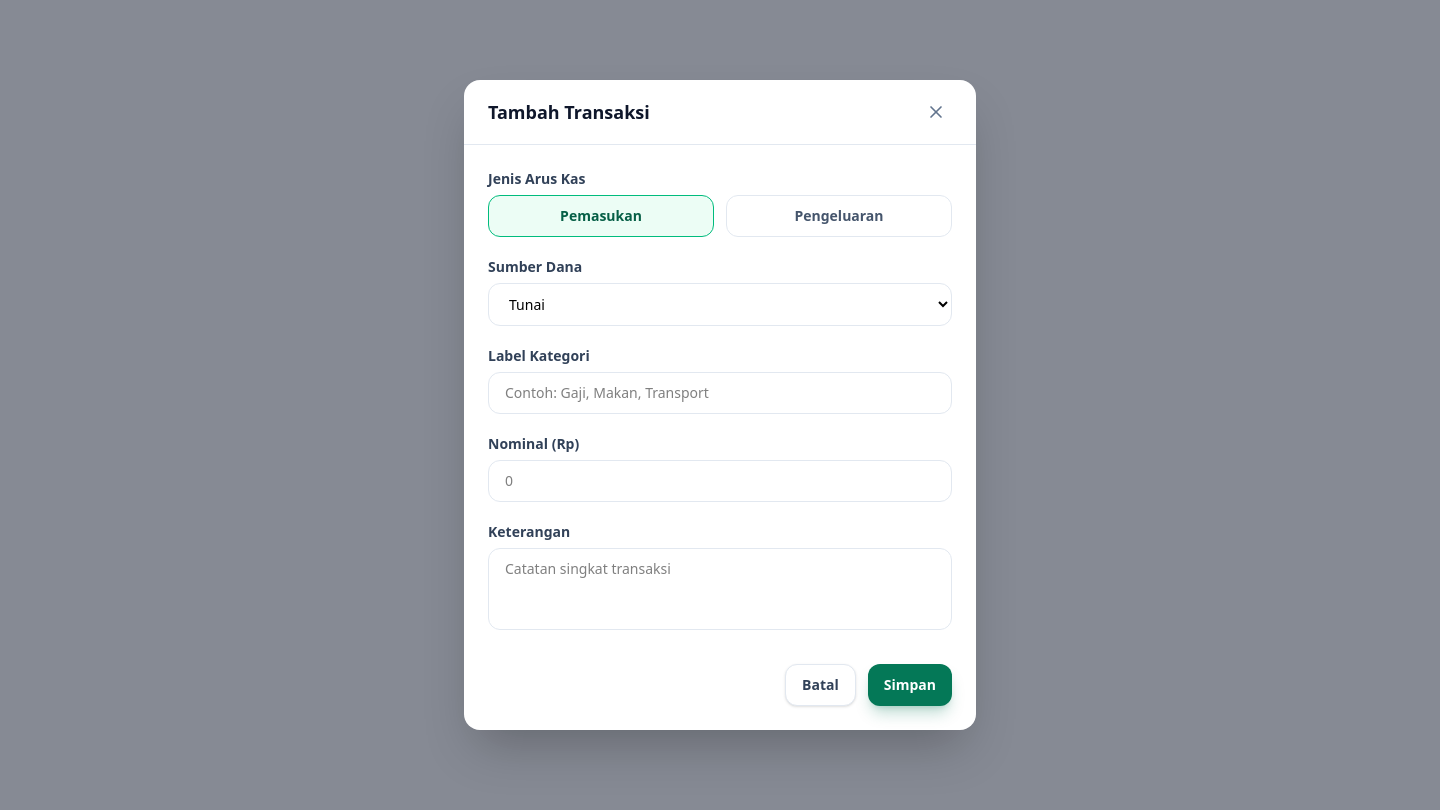
AddModal › menghapus pesan error saat input diperbaiki
The image size is (1440, 810).
Submit the form, box [464,145,976,730]
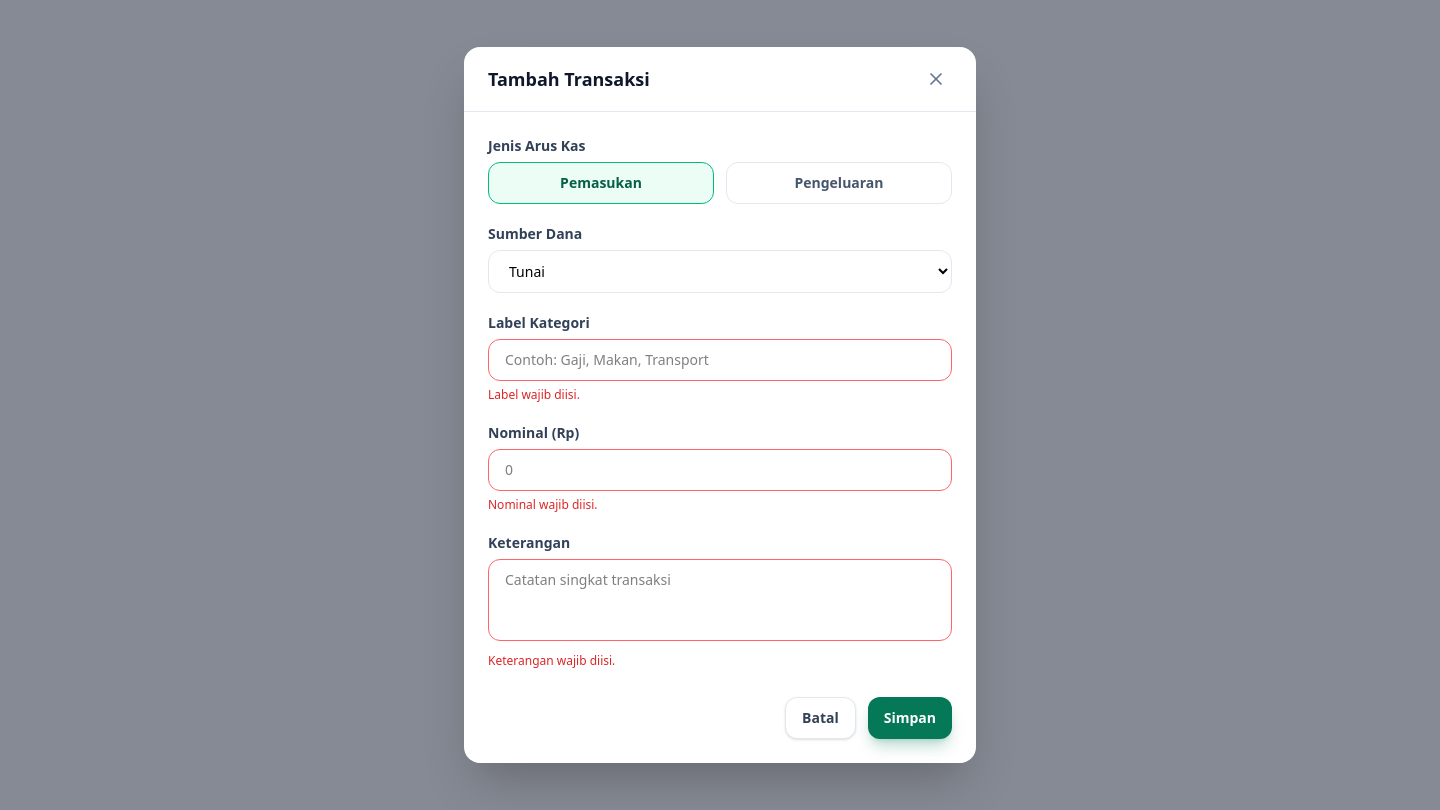
Expected: the text "Label wajib diisi." is shown, [488,386,580,403]
In the field with id "add-label": (720, 360) [488,339,952,381], type "Gaji"
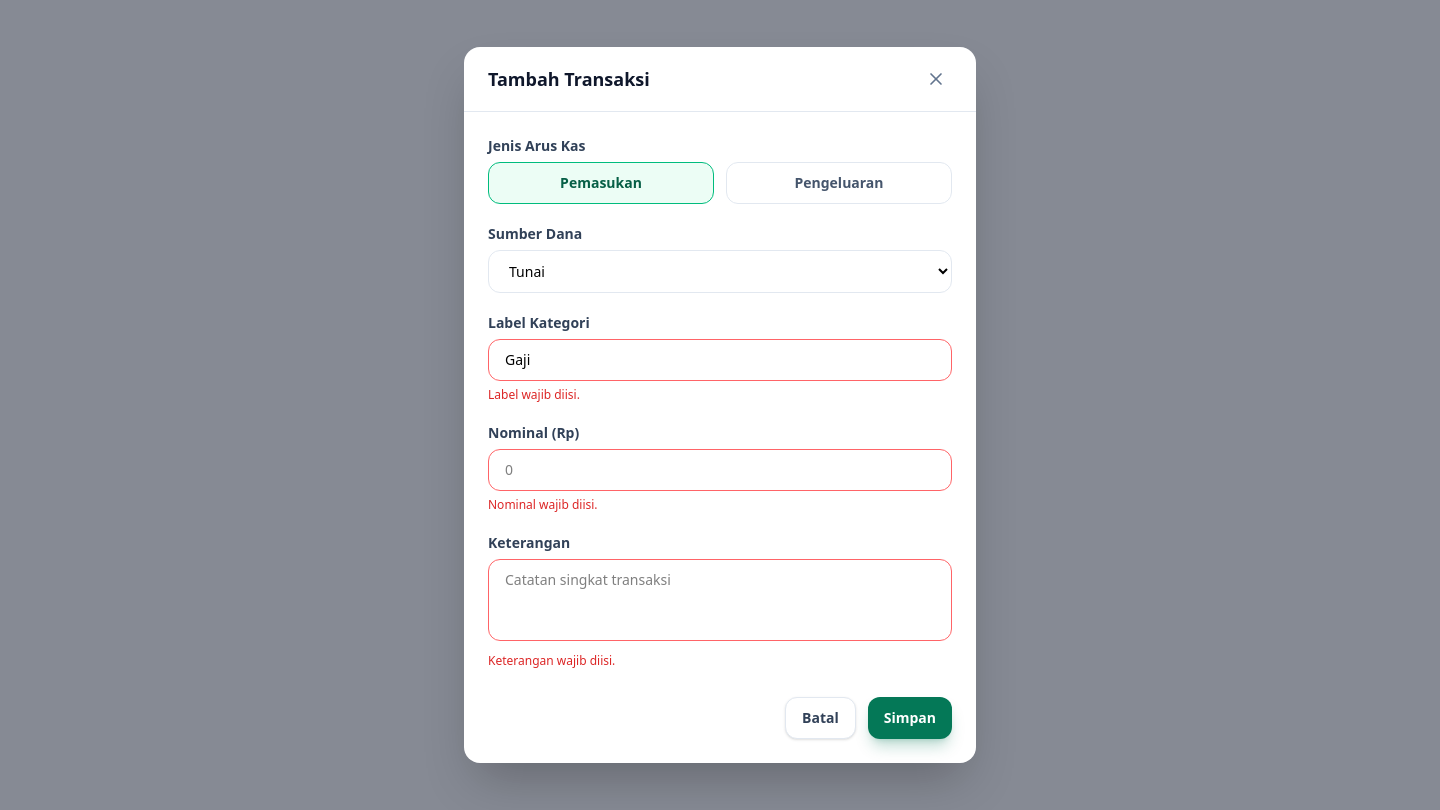
In the number field with id "add-nominal": (720, 470) [488,449,952,491], type "1000"
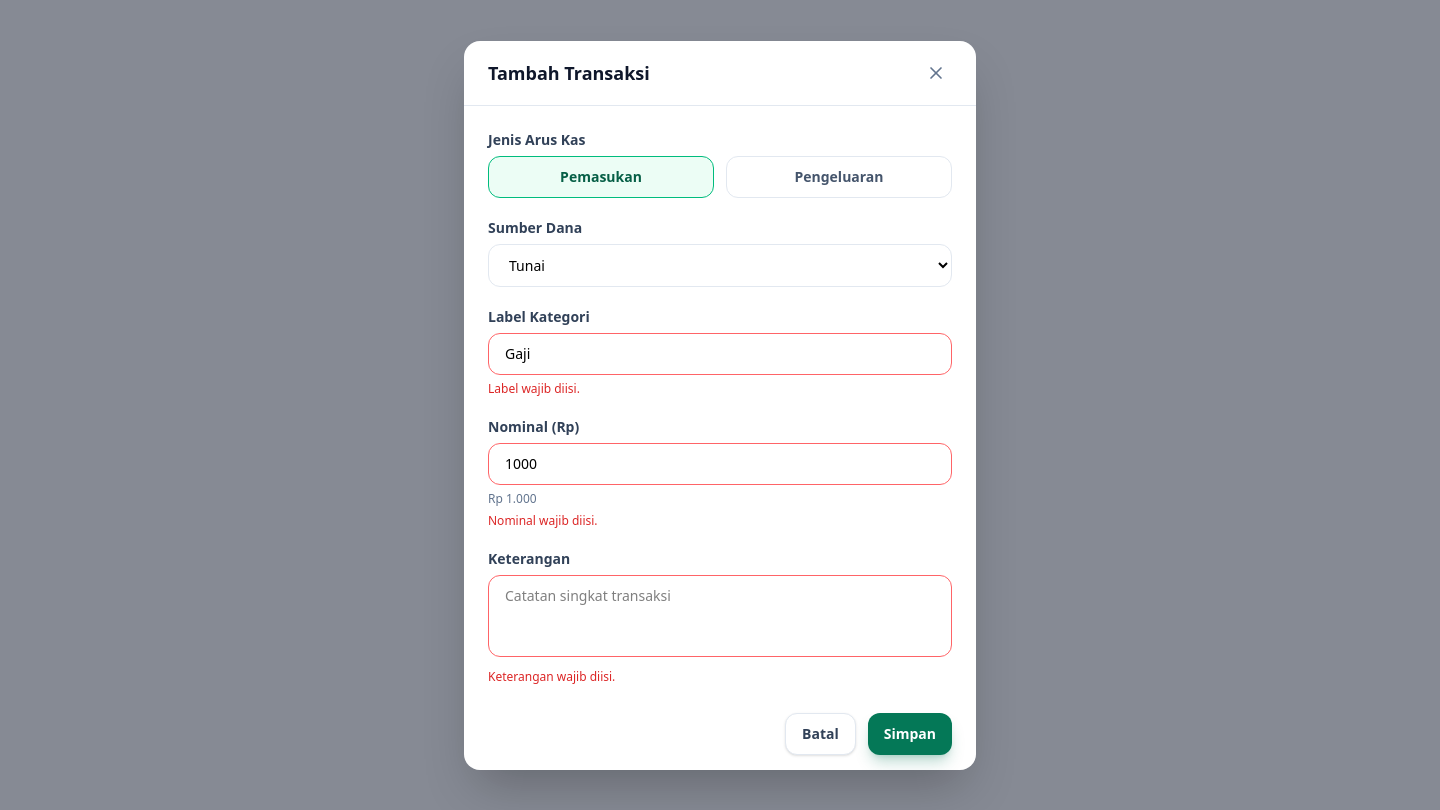
In the text box with id "add-description": (720, 616) [488,574,952,656], type "Bulanan"
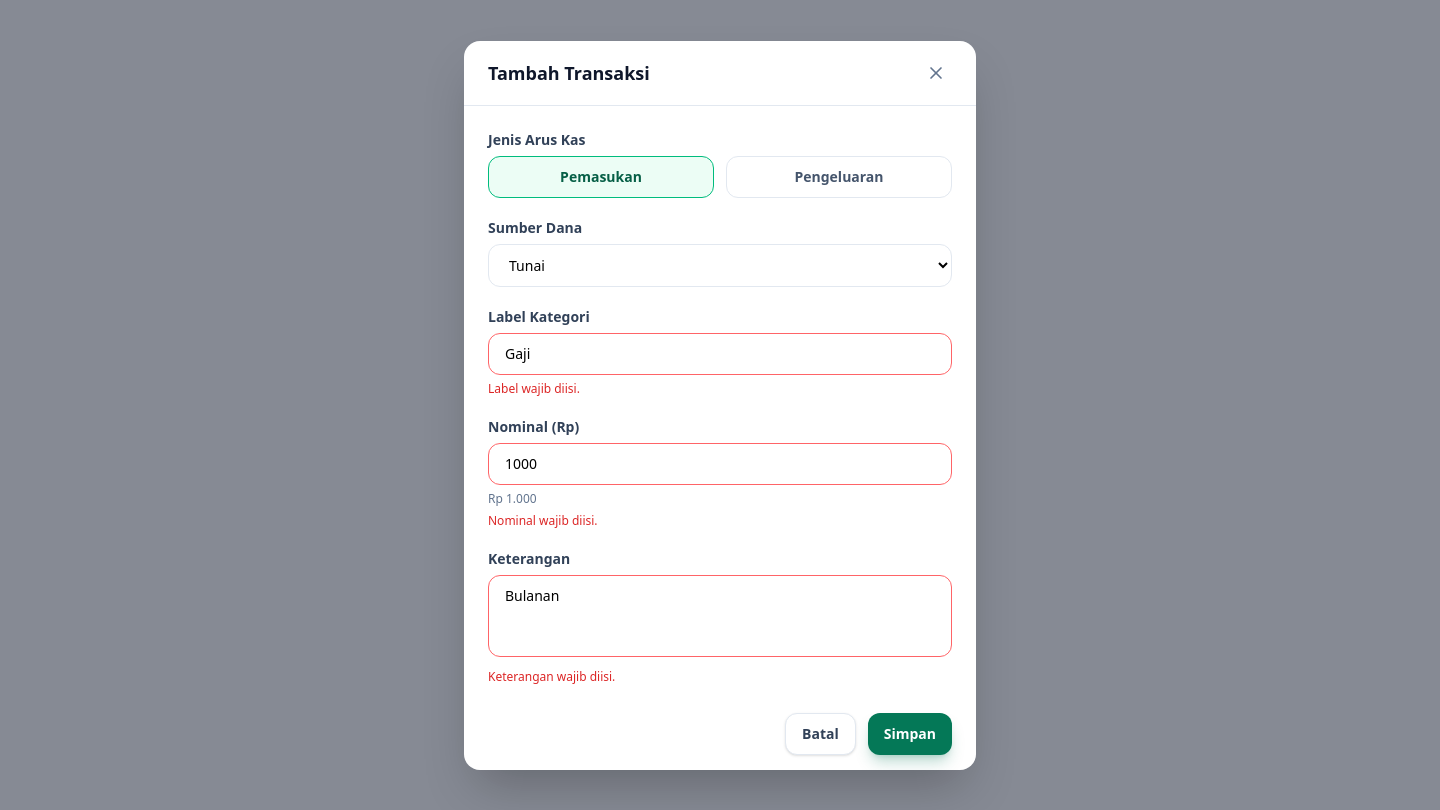
Submit the form, box [464,106,976,778]
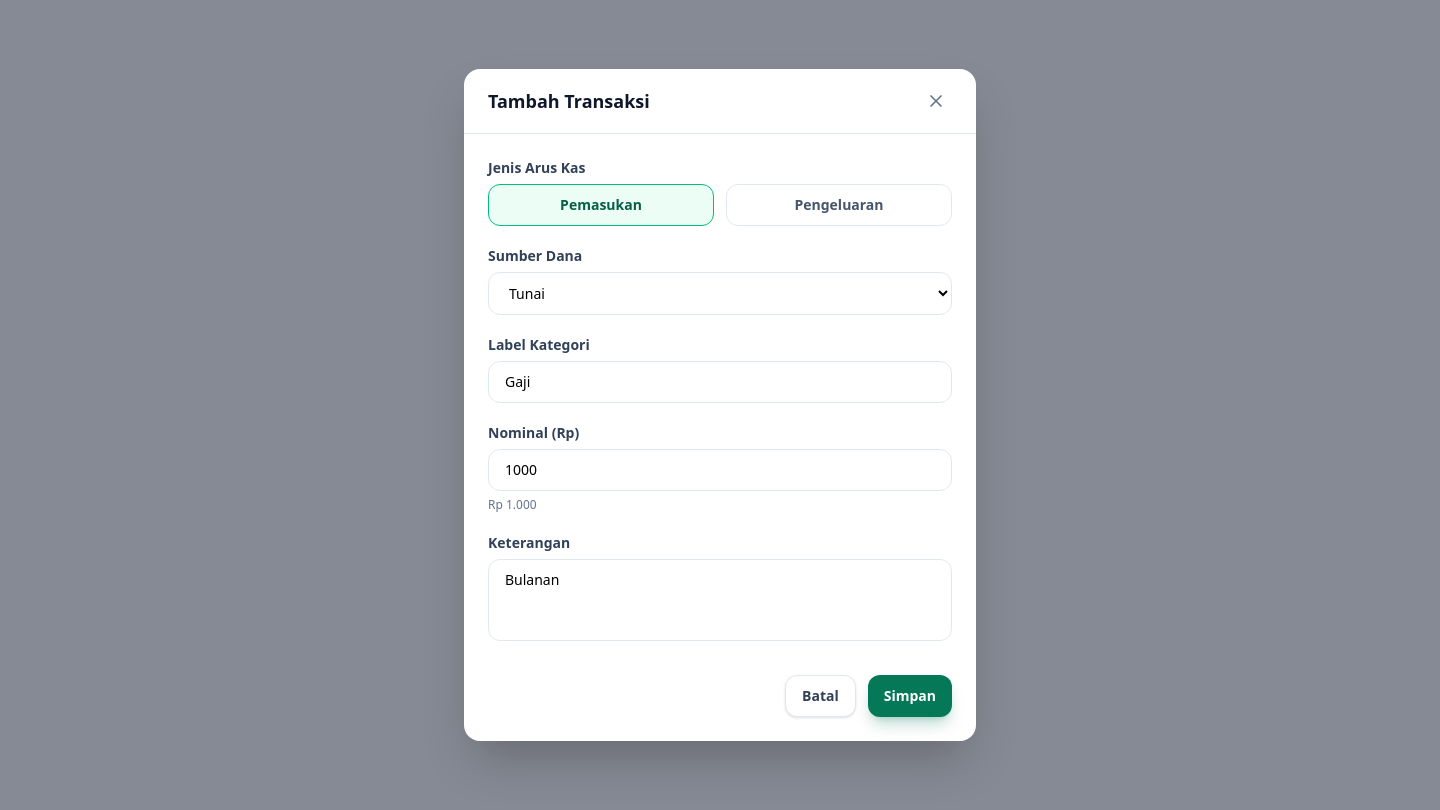
Expected: the text "wajib diisi" is gone
